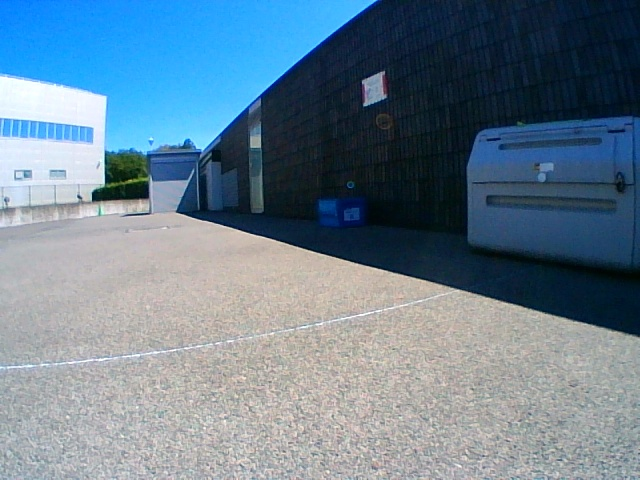blue_box: (318, 198, 363, 227)
tag: (344, 209, 359, 220)
